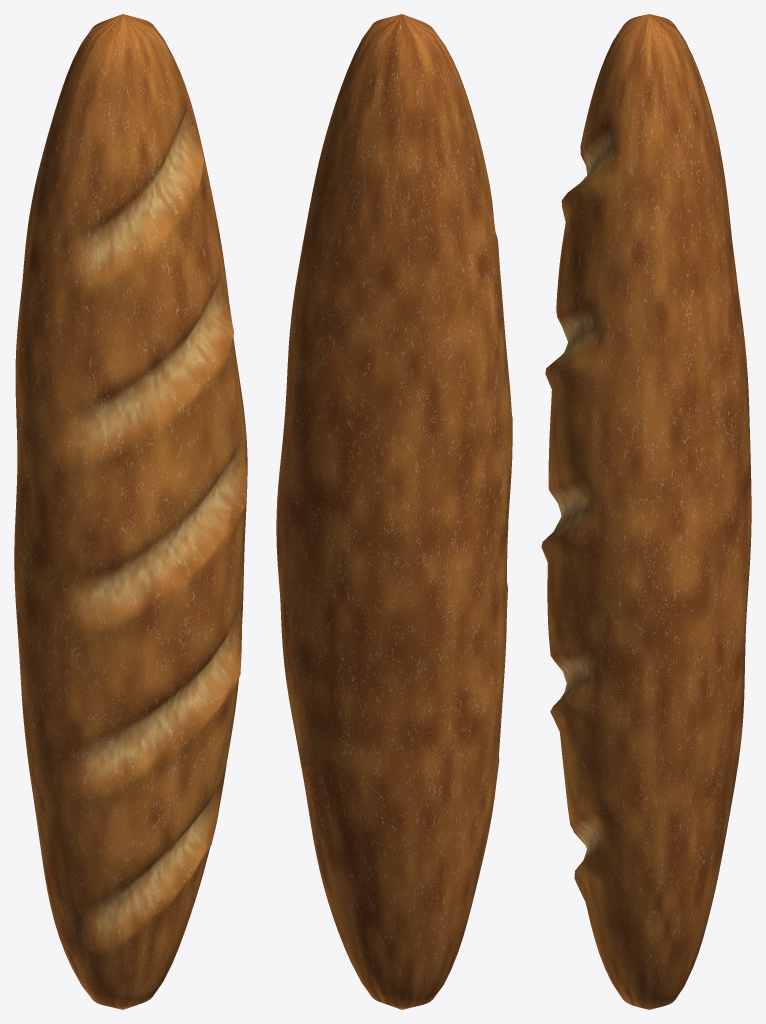
File: francepan.glb
3 views of the same model, side by side, from view 1: azimuth 30°, elevation 25°; view 2: azimuth 150°, elevation 25°; view 3: azimuth 270°, elevation 25° (orthographic).
Parts seen in each view (by area): view 1: francepan; view 2: francepan; view 3: francepan.
Part boxes in pixels (x1,y1,x2,y2): francepan: [14, 14, 247, 1009]; francepan: [276, 14, 512, 1009]; francepan: [541, 14, 751, 1009].
Bounding box in the file's own units: 0.4681 × 2.12 × 0.4055.
1 material, 1 textured.
